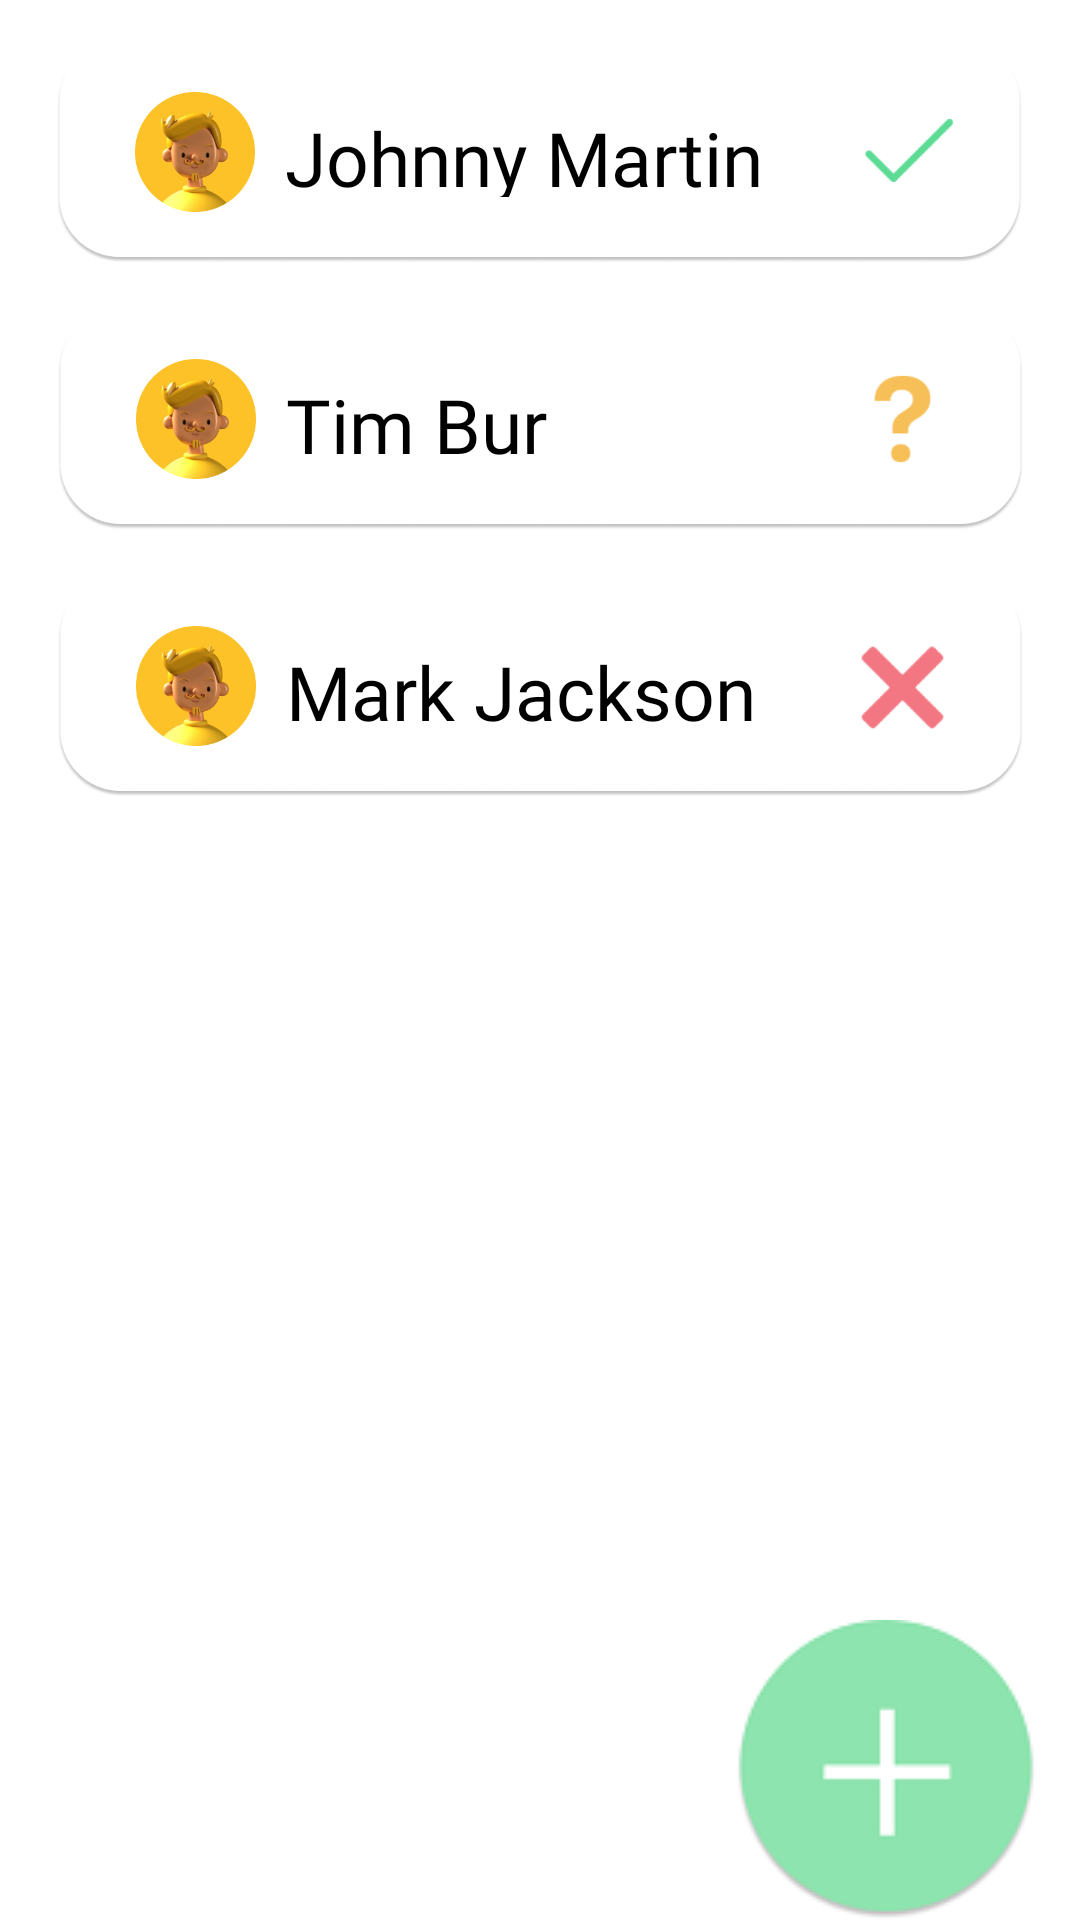

Screen size 1080 × 1920. Icon name, then its box in pixels as bbox=(x1, y1, x2, y2):
addwish: bbox=(739, 1620, 1033, 1916)
